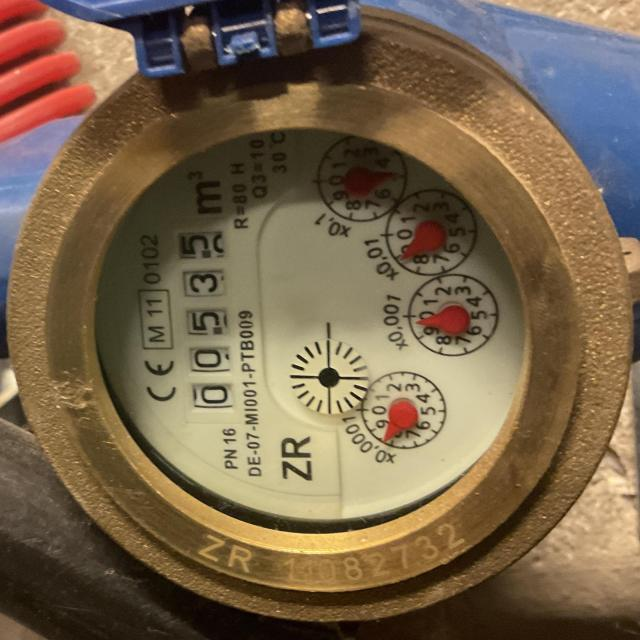gaz_meter: (85, 127, 541, 535)
indication: (174, 216, 241, 421)
